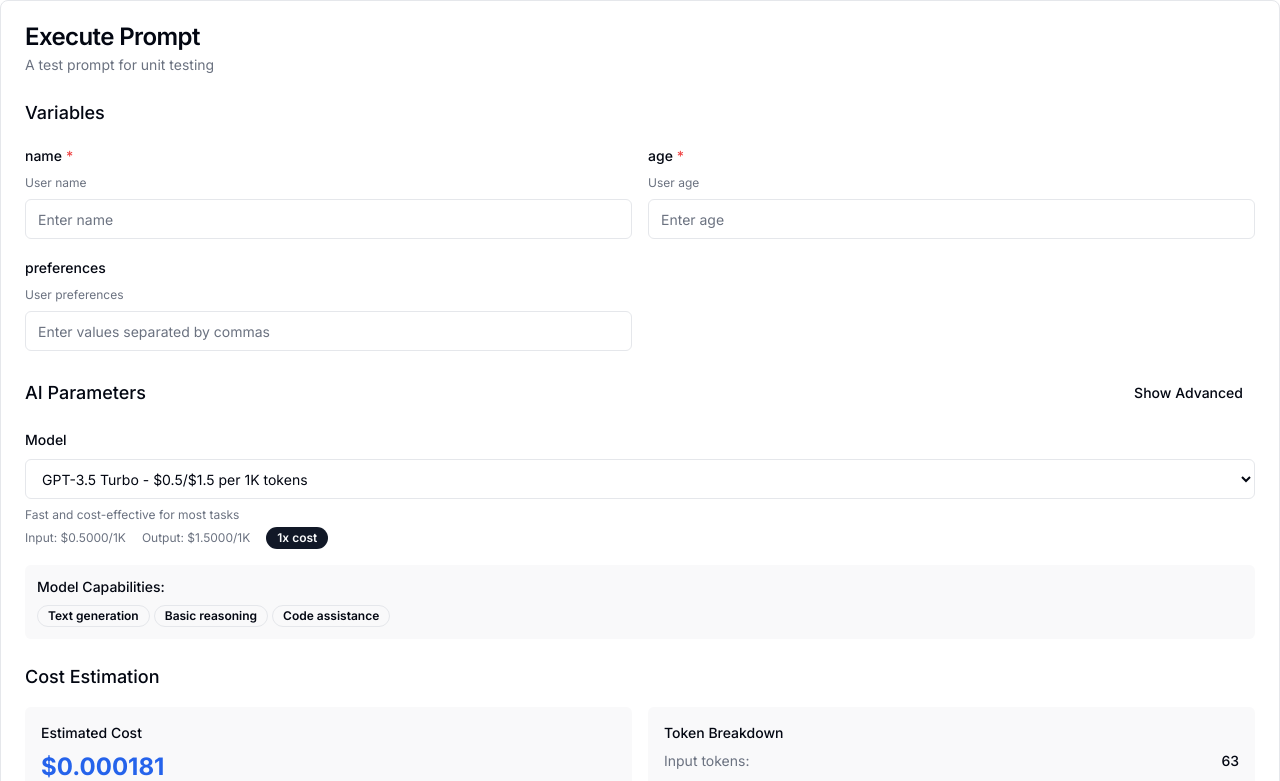
Test: EnhancedExecutionPanel › Execution History › tracks execution history locally
# Fill and execute
Step 1. Type "John" into the field labelled "name*" → (328, 219), box [25,199,632,239]
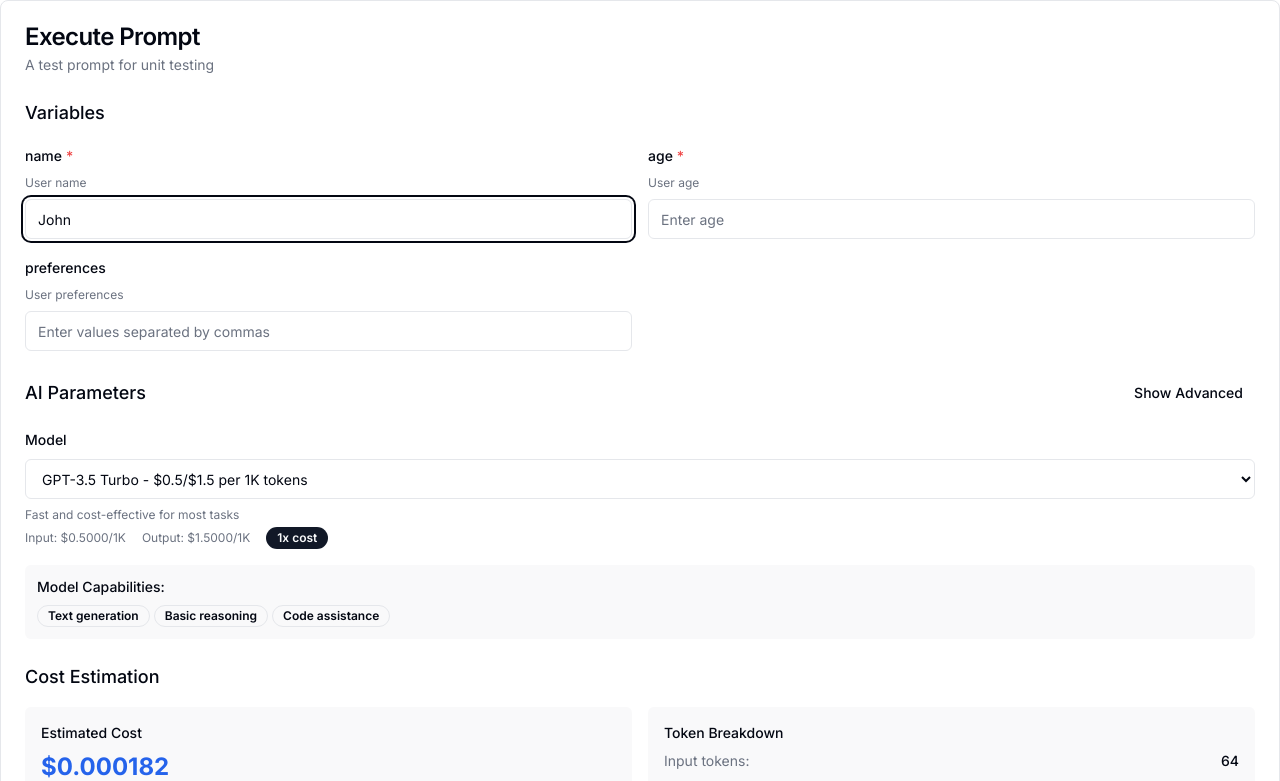
Step 2. Type "25" into the number field labelled "age*" → (952, 219), box [648,199,1255,239]
(page scrolled)
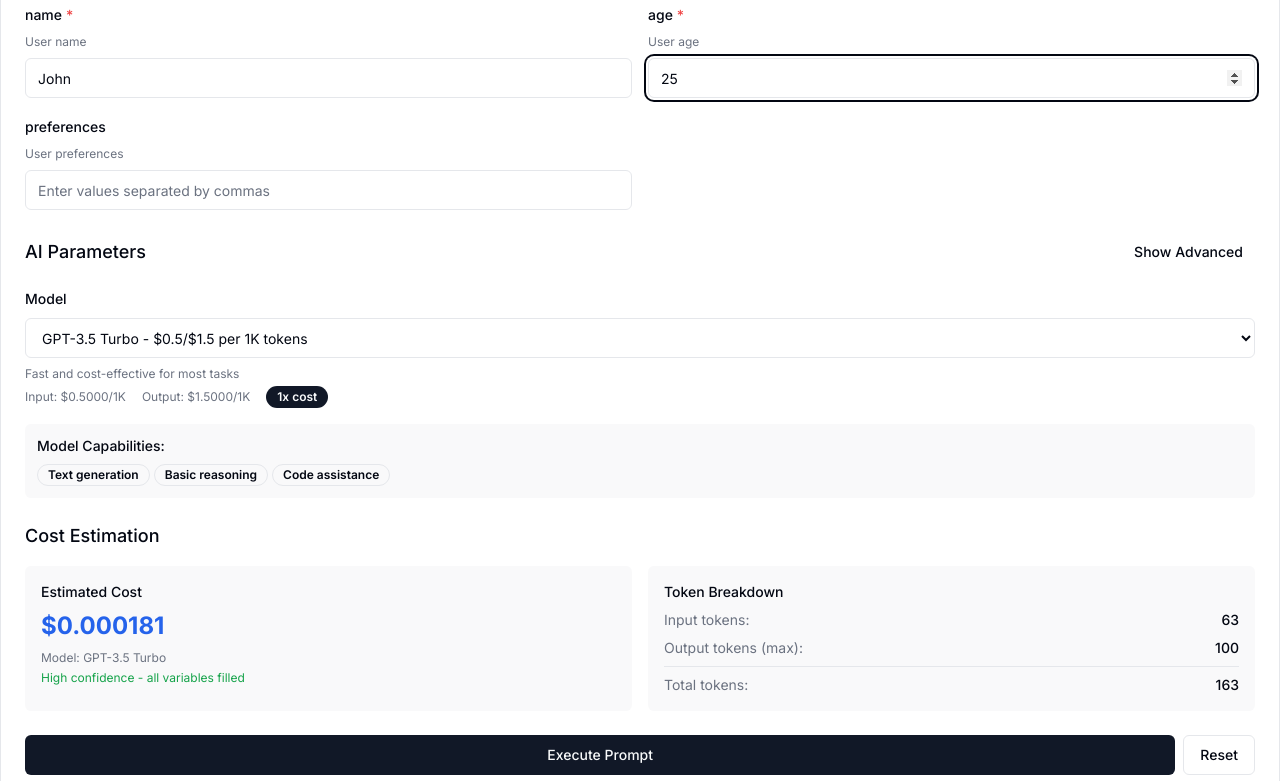
Step 3. Click the button with test id "execute-prompt-button" → click(600, 755), box [25,735,1175,775]
(page scrolled)
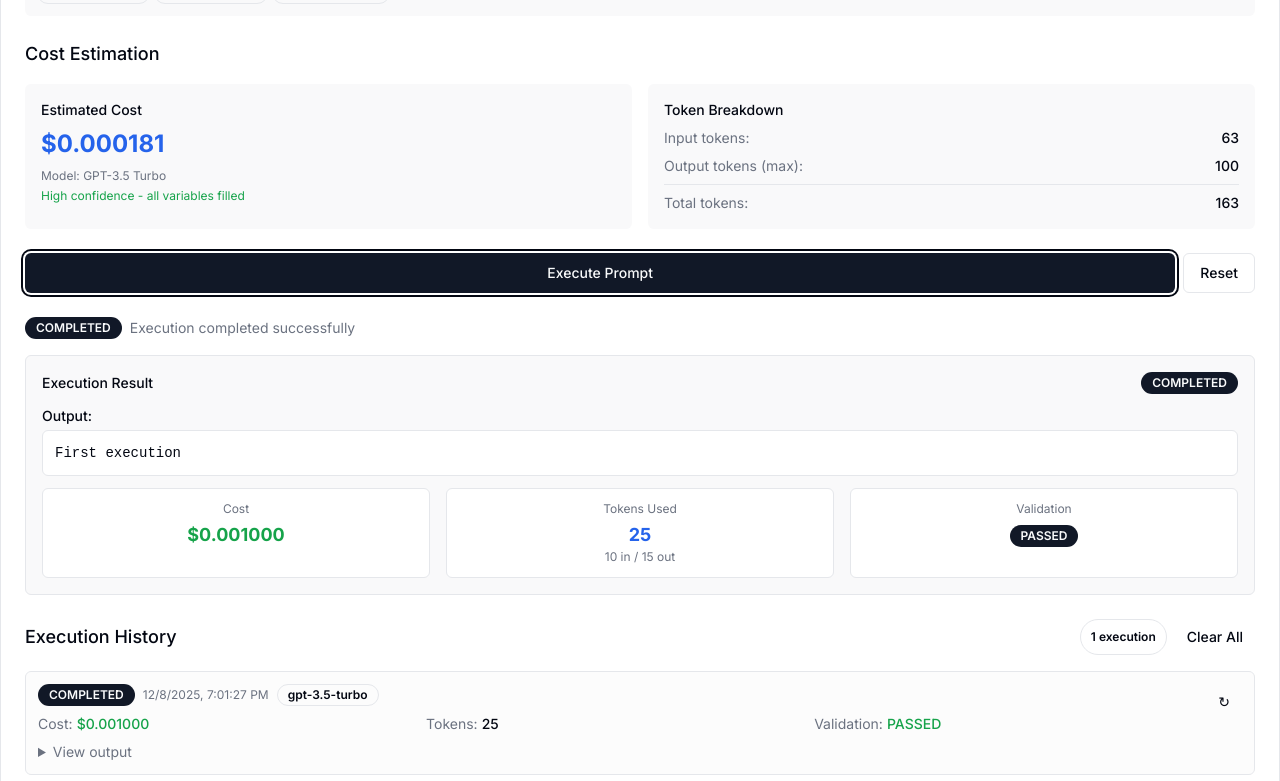
Expected: the heading "Execution History" is shown, [25,623,176,651]
Expected: the text "First execution" is shown, [55,445,181,461]
